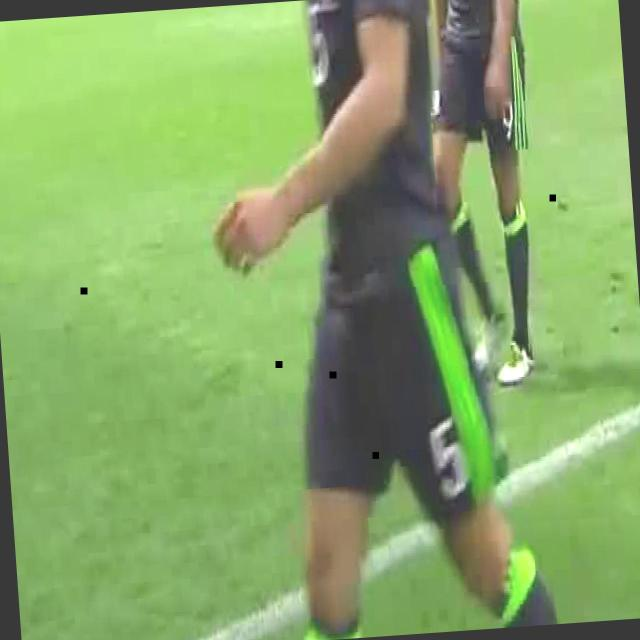player-white: (196, 0, 564, 640), (416, 0, 545, 390), (608, 0, 627, 134)
